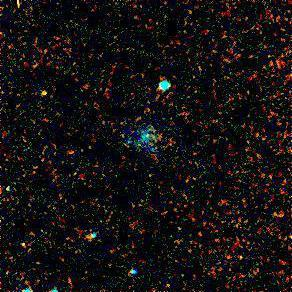star: (29, 76, 59, 106)
